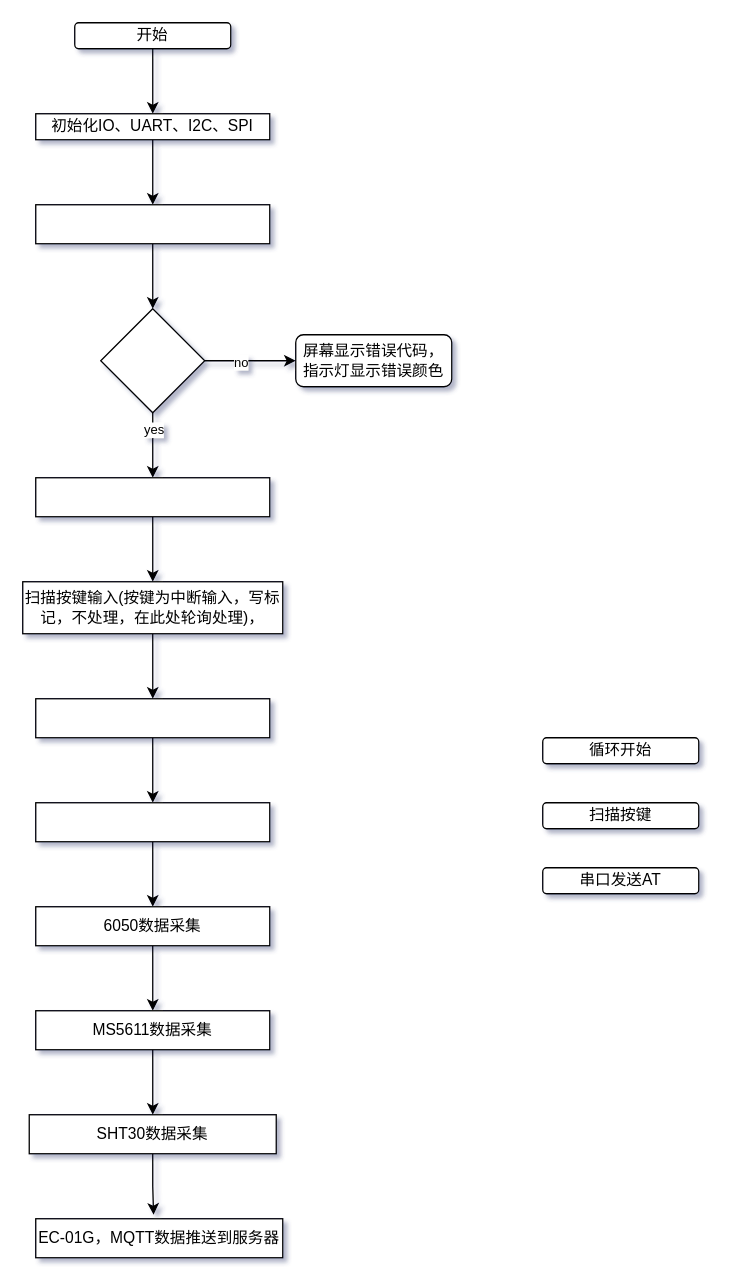
The diagram is 729 pixels wide and 1288 high, and some of its shapes have lost their labels. The shapes that lost their labels are listed below. From the top down, each one's box as (x1, y1, x2, y2) in pixels, then its label:
(34, 203, 270, 244): 初始化NBiot模组，加速度计&陀螺仪，温湿度，气压计，TF卡，
(99, 307, 205, 413): 各设备正常?
(34, 476, 270, 517): 初始化完成，进入主循环
(34, 697, 270, 738): 指示灯刷新
(34, 801, 270, 842): 显示屏刷新
